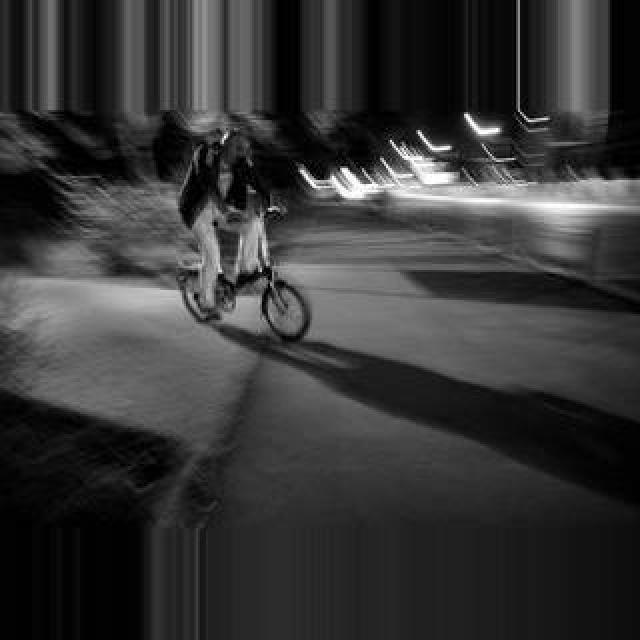MC-Bike: (176, 118, 280, 322)
Person: (174, 218, 310, 340)
